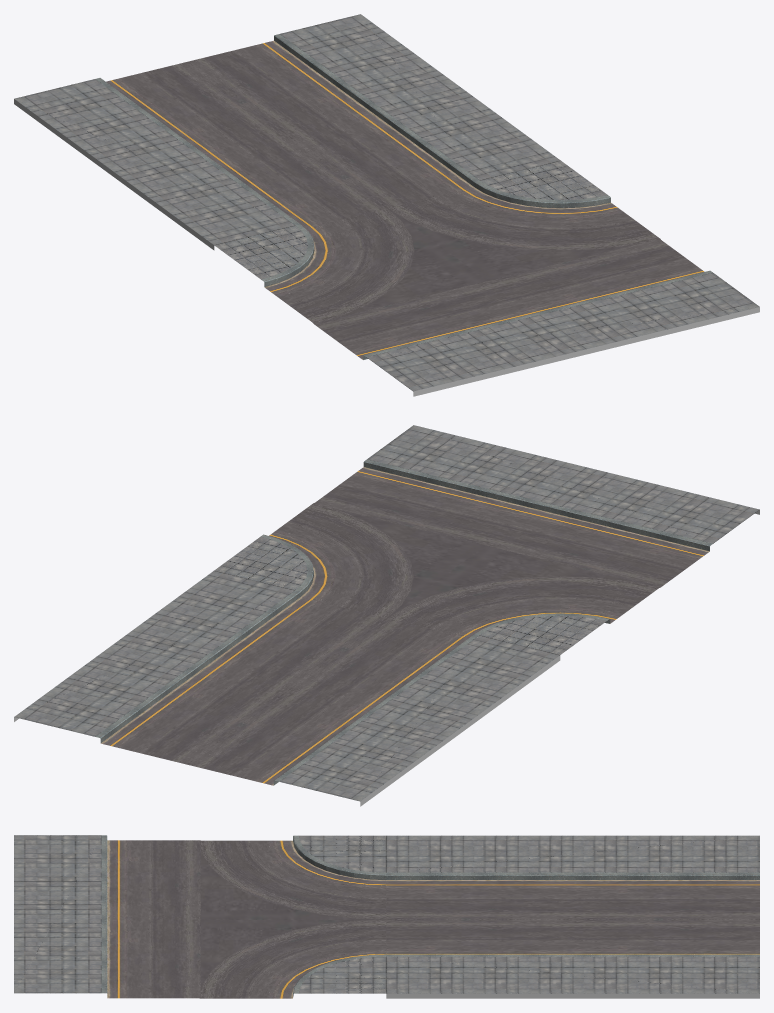
File: road03.obj
3 views of the same model, one above another, from view 1: azimuth 30°, elevation 25°; view 2: azimuth 150°, elevation 25°; view 3: azimuth 270°, elevation 25° (orthographic). The views are drawn at different scales.
Parts seen in each view (by area): view 1: Plane.008_Plane.019; view 2: Plane.008_Plane.019; view 3: Plane.008_Plane.019.
Part boxes in pixels (x1,y1,x2,y2): Plane.008_Plane.019: [14, 14, 759, 396]; Plane.008_Plane.019: [14, 425, 759, 806]; Plane.008_Plane.019: [14, 835, 759, 998].
Bounding box in the file's own units: 2.29 × 0.0336 × 4.57.
Materials: 6 (5 with a texture image).
